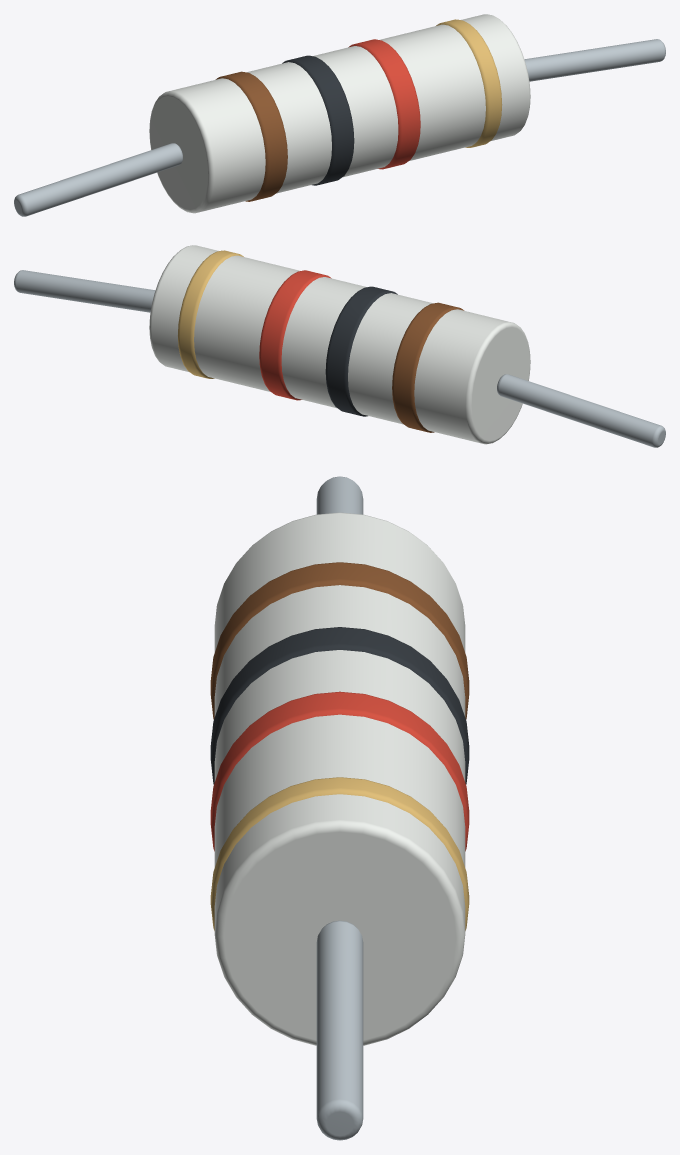
Rendered from ENG_Resistor1000.fbx.
The picture shows the model from 3 angles, top to bottom: view 1: azimuth 30°, elevation 25°; view 2: azimuth 150°, elevation 25°; view 3: azimuth 270°, elevation 25°; orthographic projection. The views are drawn at different scales.
Visible parts, largest first — view 1: Body.002, LeadA.002, LeadB.002, Band2.002, Band0.002, Band1.002, Tolerance.002; view 2: Body.002, LeadA.002, LeadB.002, Band2.002, Band0.002, Band1.002, Tolerance.002; view 3: Body.002, LeadB.002, Band2.002, Band0.002, Band1.002, Tolerance.002, LeadA.002.
Part boxes in pixels (x1,y1,x2,y2): Body.002: (149,14,530,213); LeadA.002: (14,143,182,216); LeadB.002: (524,39,665,81); Band2.002: (348,39,420,169); Band0.002: (215,71,287,201); Band1.002: (282,55,354,185); Tolerance.002: (436,19,502,147); Body.002: (149,245,530,444); LeadA.002: (497,374,665,447); LeadB.002: (14,270,155,312); Band2.002: (259,270,331,400); Band0.002: (392,302,464,432); Band1.002: (325,286,397,416); Tolerance.002: (177,250,243,378); Body.002: (214,512,465,1045); LeadB.002: (316,920,363,1140); Band2.002: (210,691,469,851); Band0.002: (210,562,469,719); Band1.002: (210,627,469,784); Tolerance.002: (210,777,469,930); LeadA.002: (316,476,363,514).
Size of the model in its own units: 32.05 by 5.56 by 5.56.
